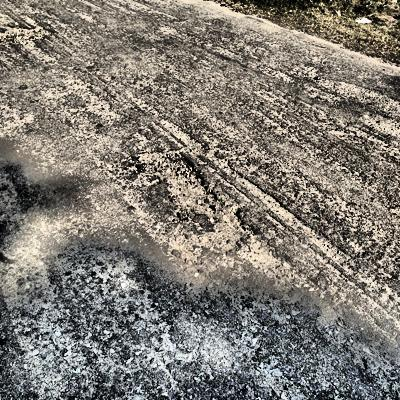pothole: (134, 148, 253, 262)
